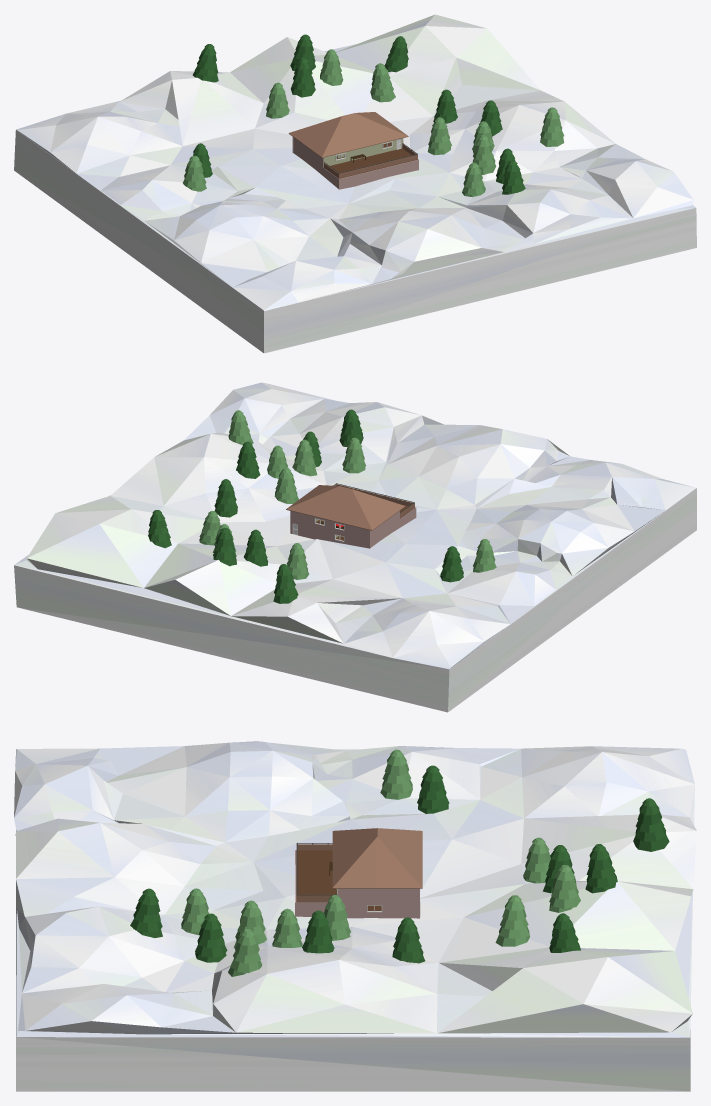
File: house222.glb
3 views of the same model, one above another, from view 1: azimuth 30°, elevation 25°; view 2: azimuth 150°, elevation 25°; view 3: azimuth 270°, elevation 25° (orthographic). The views are drawn at different scales.
Visible parts, largest first — view 1: Cube.030, Floor.002, Floor.001, Wall.027, Tree.015, Tree.008, Tree.014, Wall.024, Tree.016, Tree.004, Wall.009, Tree.003 (+8 smaller); view 2: Cube.030, Floor.002, Wall.025, Tree.016, Wall.024, Tree.013, Tree.010, Tree.017, Tree.006, Tree.012, Tree, Tree.004 (+7 smaller); view 3: Cube.030, Floor.002, Wall.026, Floor.001, Tree.016, Tree.014, Tree.011, Tree.001, Tree.010, Tree.012, Tree.002, Tree.009 (+10 smaller).
Boxes of the visible parts, bbox=[...] form: Cube.030: bbox=[14, 14, 696, 353]; Floor.002: bbox=[288, 112, 408, 157]; Floor.001: bbox=[324, 142, 417, 178]; Wall.027: bbox=[338, 159, 418, 189]; Tree.015: bbox=[540, 107, 564, 146]; Tree.008: bbox=[291, 57, 315, 97]; Tree.014: bbox=[370, 63, 395, 102]; Wall.024: bbox=[293, 137, 339, 189]; Tree.016: bbox=[192, 44, 218, 82]; Tree.004: bbox=[427, 117, 451, 155]; Wall.009: bbox=[323, 138, 402, 167]; Tree.003: bbox=[472, 135, 496, 174]; Cube.030: bbox=[14, 382, 696, 712]; Floor.002: bbox=[286, 485, 405, 530]; Wall.025: bbox=[290, 511, 370, 548]; Tree.016: bbox=[273, 564, 298, 603]; Wall.024: bbox=[370, 508, 415, 547]; Tree.013: bbox=[214, 479, 237, 517]; Tree.010: bbox=[213, 527, 236, 566]; Tree.017: bbox=[148, 510, 171, 548]; Tree.006: bbox=[236, 441, 260, 478]; Tree.012: bbox=[440, 546, 463, 582]; Tree: bbox=[342, 437, 366, 473]; Tree.004: bbox=[274, 467, 298, 503]; Cube.030: bbox=[14, 741, 696, 1091]; Floor.002: bbox=[332, 828, 422, 888]; Wall.026: bbox=[295, 888, 419, 918]; Floor.001: bbox=[296, 850, 336, 902]; Tree.016: bbox=[633, 798, 669, 851]; Tree.014: bbox=[495, 895, 529, 946]; Tree.011: bbox=[380, 749, 412, 799]; Tree.001: bbox=[195, 913, 227, 962]; Tree.010: bbox=[585, 844, 617, 893]; Tree.012: bbox=[417, 765, 449, 813]; Tree.002: bbox=[130, 888, 162, 937]; Tree.009: bbox=[549, 865, 580, 912].
Size of what is drawn, in the model's own units: 496 by 105 by 496.
Materials: 20 (1 with a texture image).
